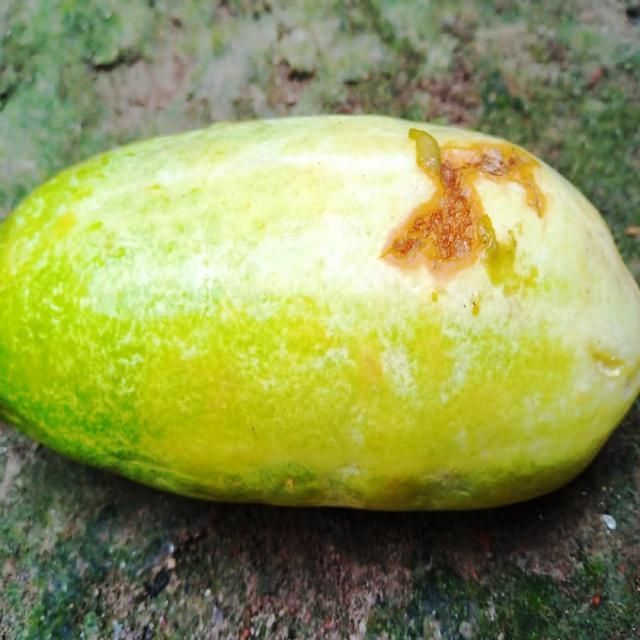Belly-Rot: (378, 121, 554, 312)
